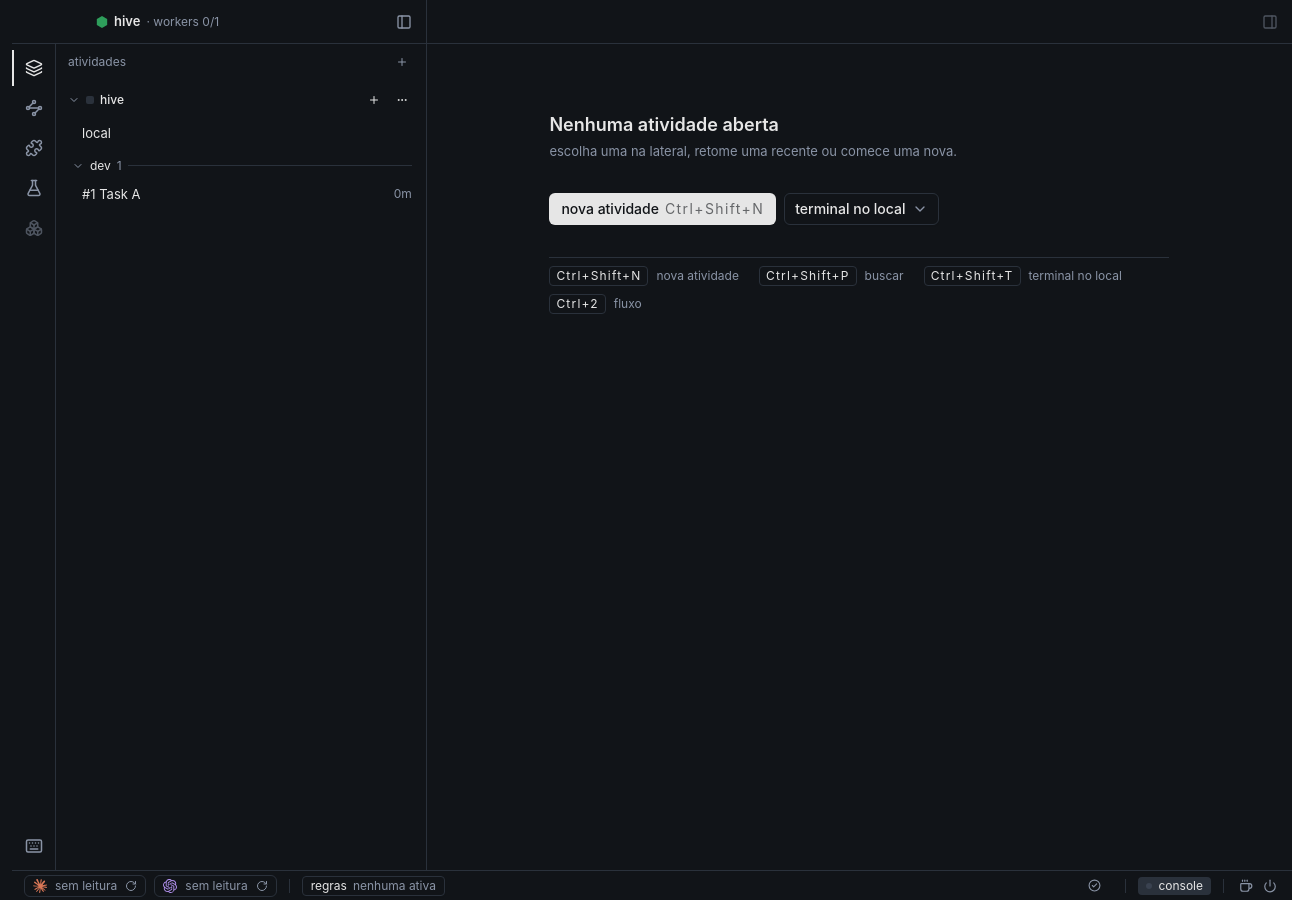
Test: a task running its worktree setup shows iniciando with no ver log icon on its card (#290)
The width and height of the screenshot is (1292, 900).
Click the button named "fluxo": (34, 108) x1=12 y1=90 x2=56 y2=126
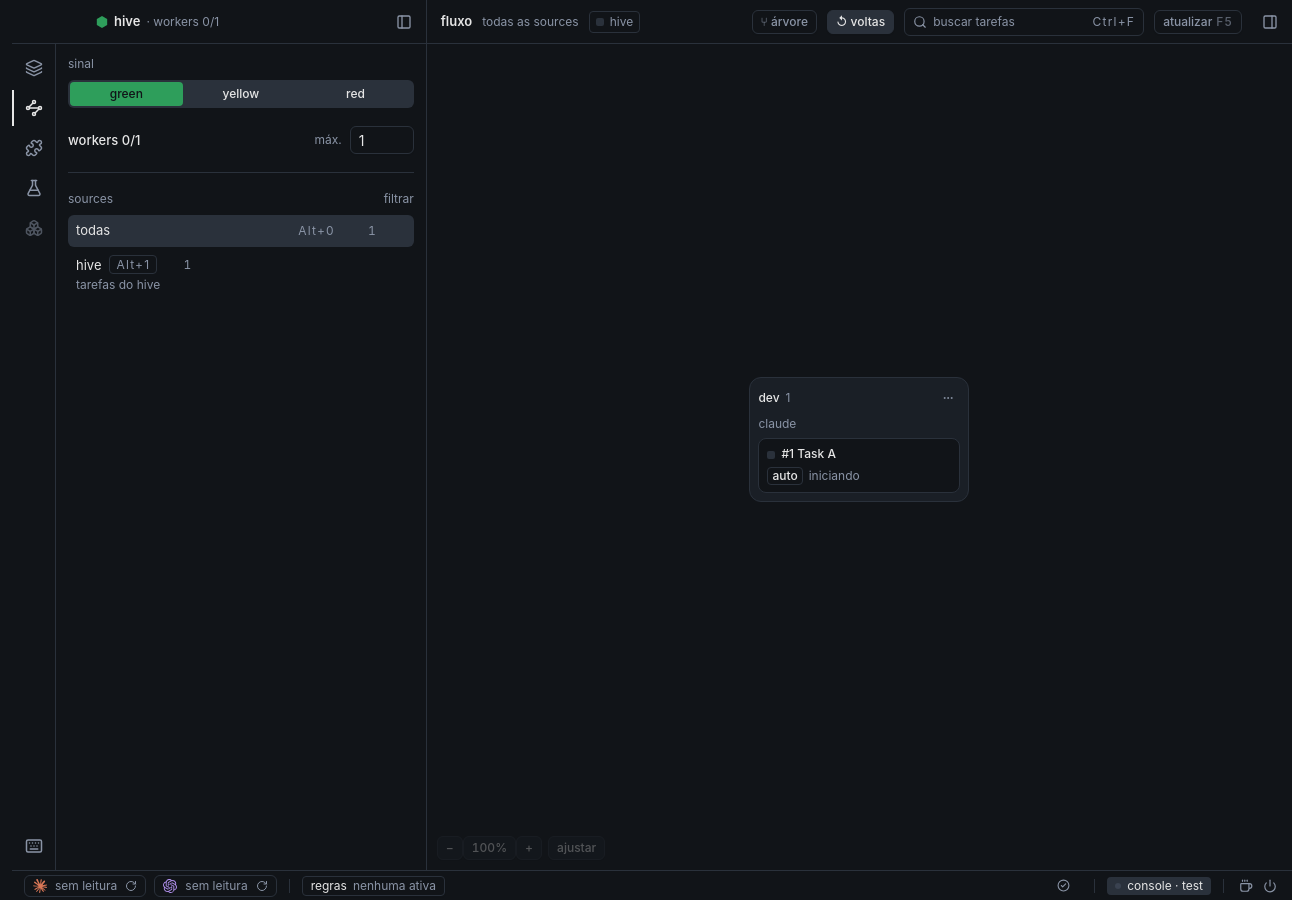
Expected: the text "iniciando" is shown, x1=809 y1=468 x2=860 y2=484
